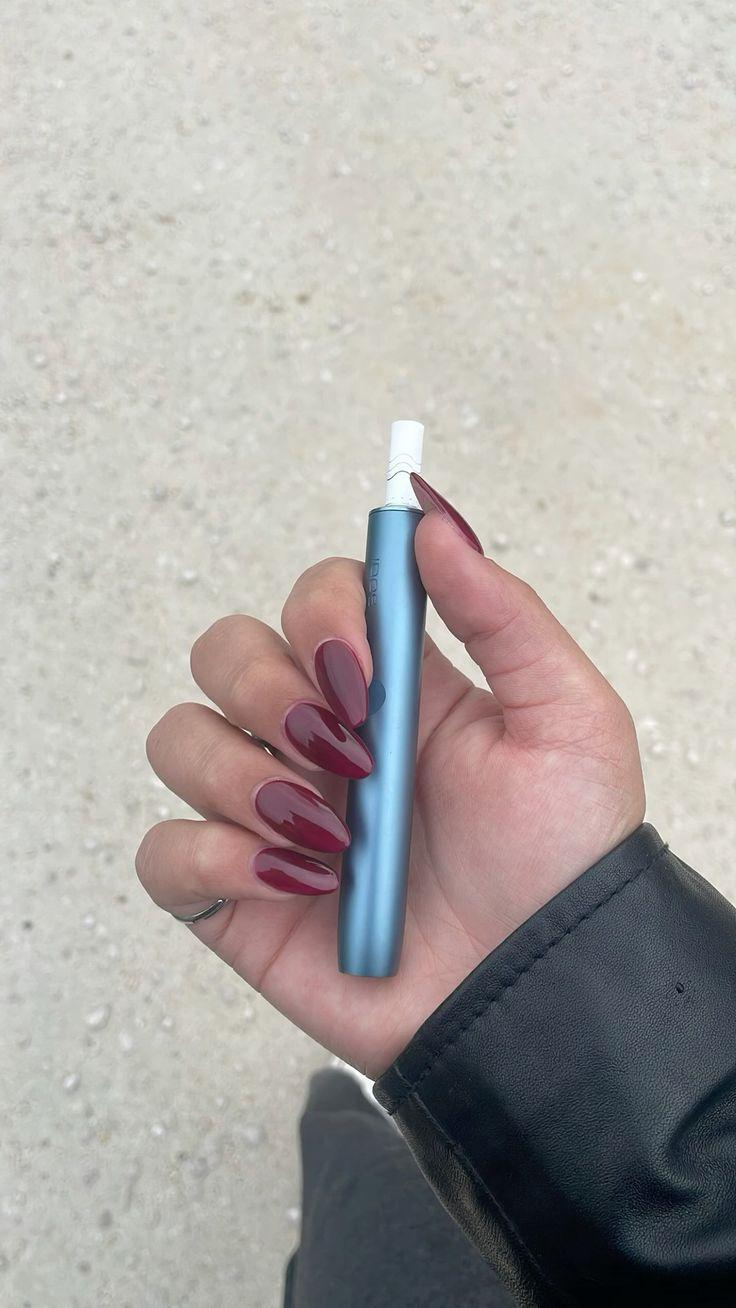iqos: (339, 421, 427, 978)
